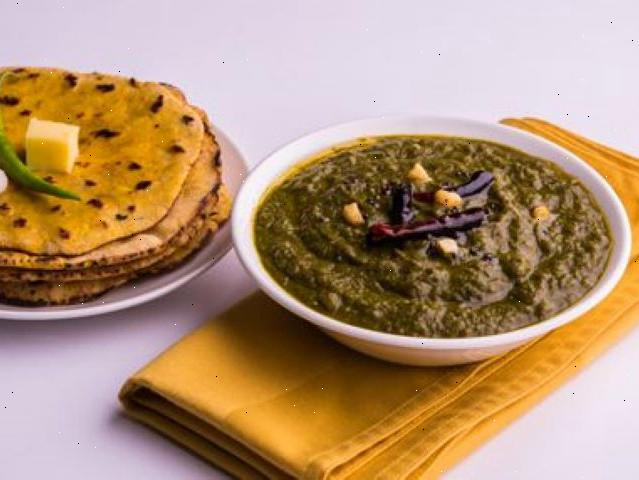saag: (257, 140, 617, 337)
